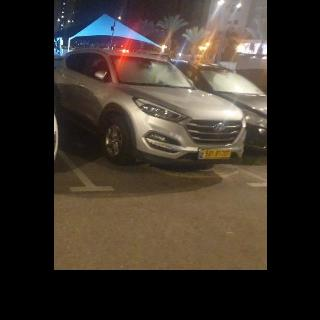LicensePlate: (202, 149, 231, 158)
